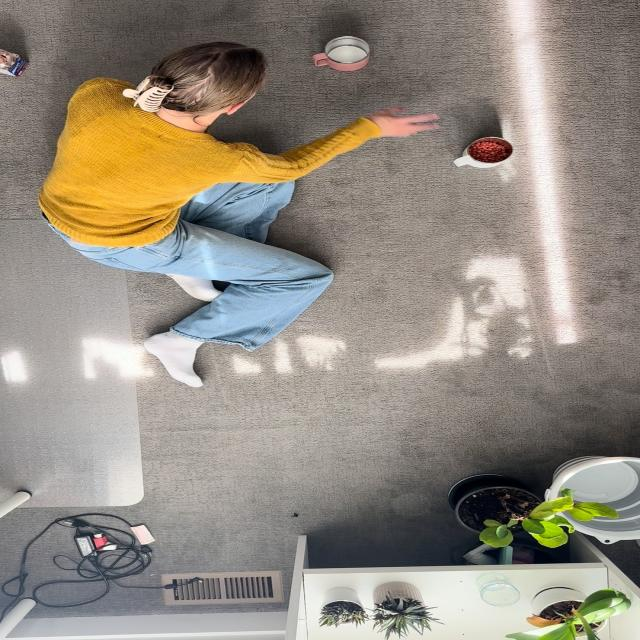IBC: (312, 36, 369, 71), (454, 137, 513, 168)
